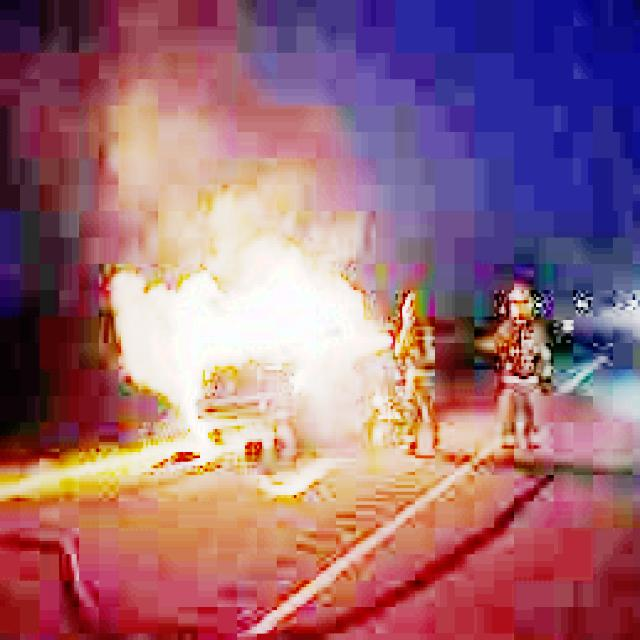api: (115, 245, 387, 440)
